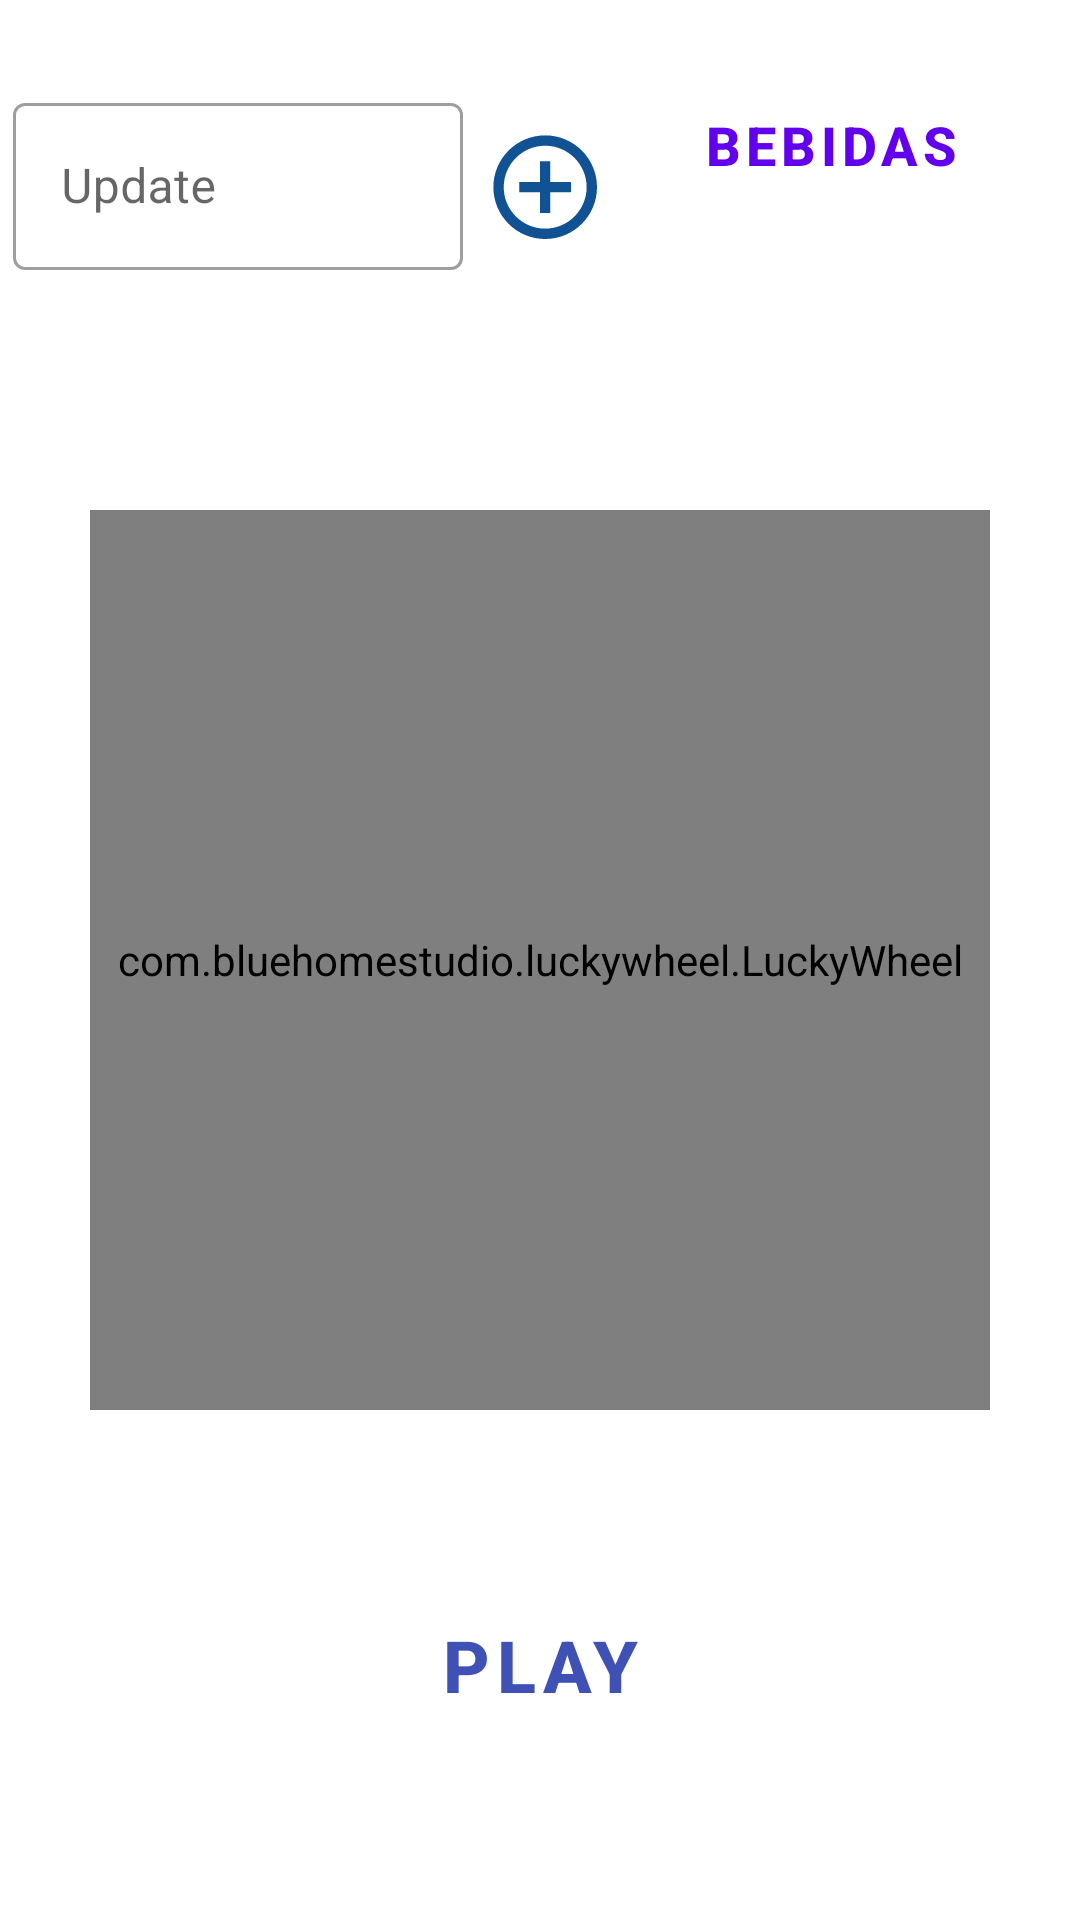

Point at icon controls on the screen. Image size 1080w x 1920h, points as (x,y).
mas: (545,187)
